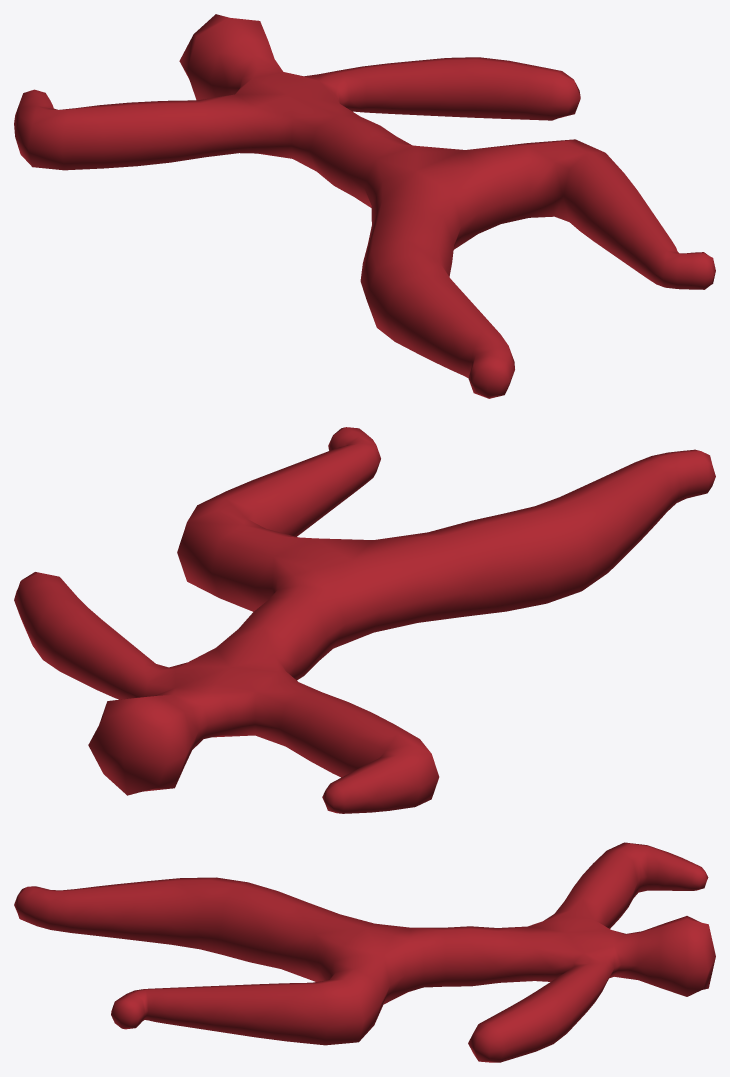
Rendered from body.fbx.
3 views of the same model, one above another, from view 1: azimuth 30°, elevation 25°; view 2: azimuth 150°, elevation 25°; view 3: azimuth 270°, elevation 25° (orthographic). The views are drawn at different scales.
Visible parts, largest first — view 1: 0_body; view 2: 0_body; view 3: 0_body.
Part boxes in pixels (x1,y1,x2,y2): 0_body: (14, 14, 715, 398); 0_body: (14, 427, 715, 813); 0_body: (14, 842, 715, 1062).
Bounding box in the file's own units: 22.8 × 4.05 × 34.78.
